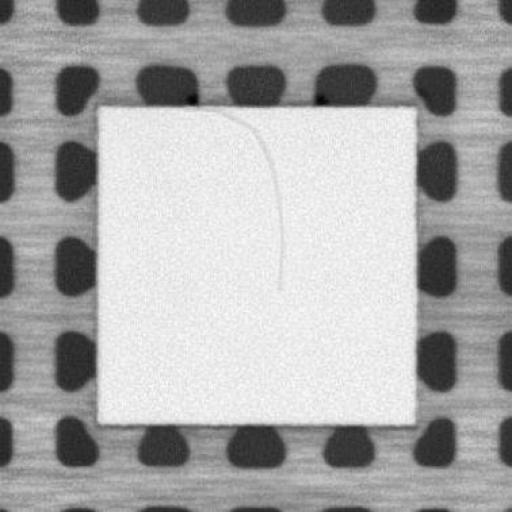DIE_CRACK: (211, 110, 286, 289)
